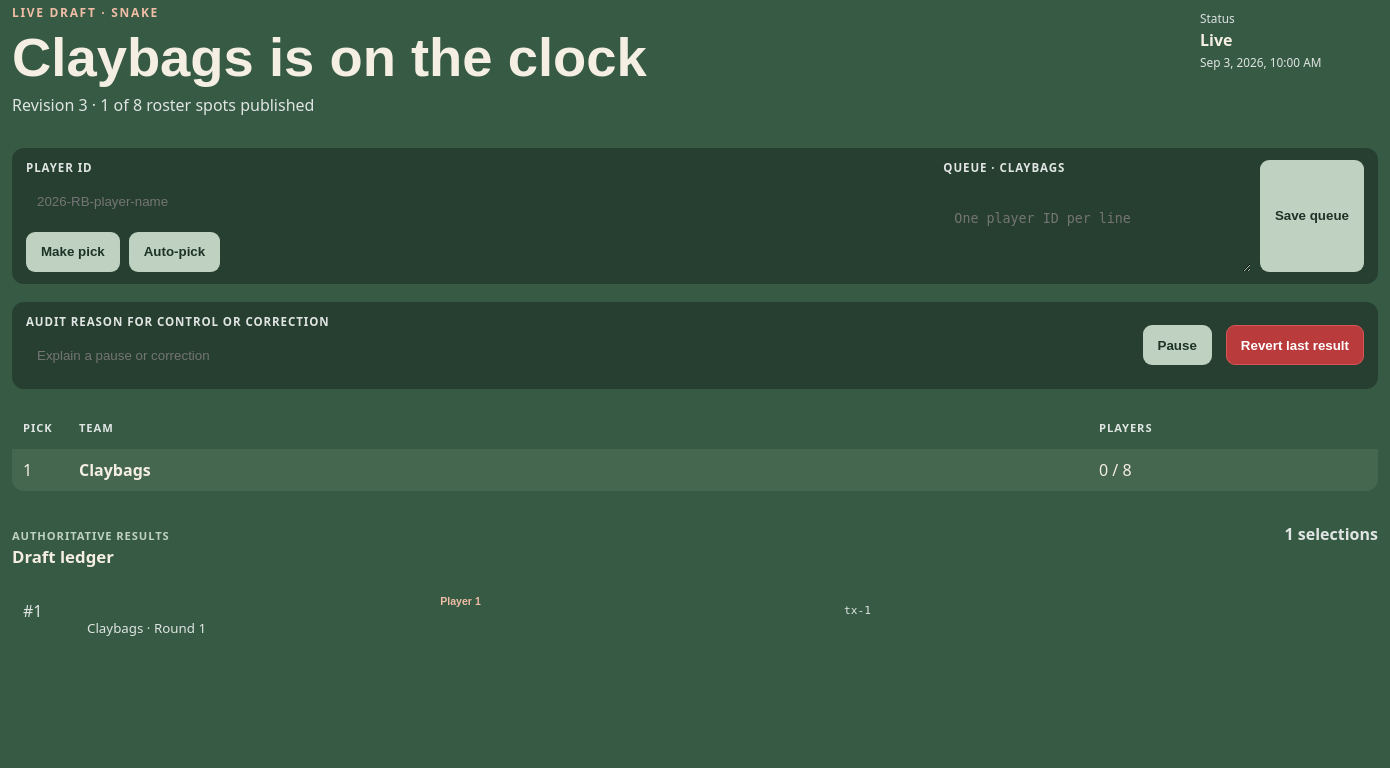
native draft workspace › requires a reason before the commissioner can revert a result
Step 1. Click the button "Revert last result" → [1295, 345], box [1226, 325, 1364, 365]
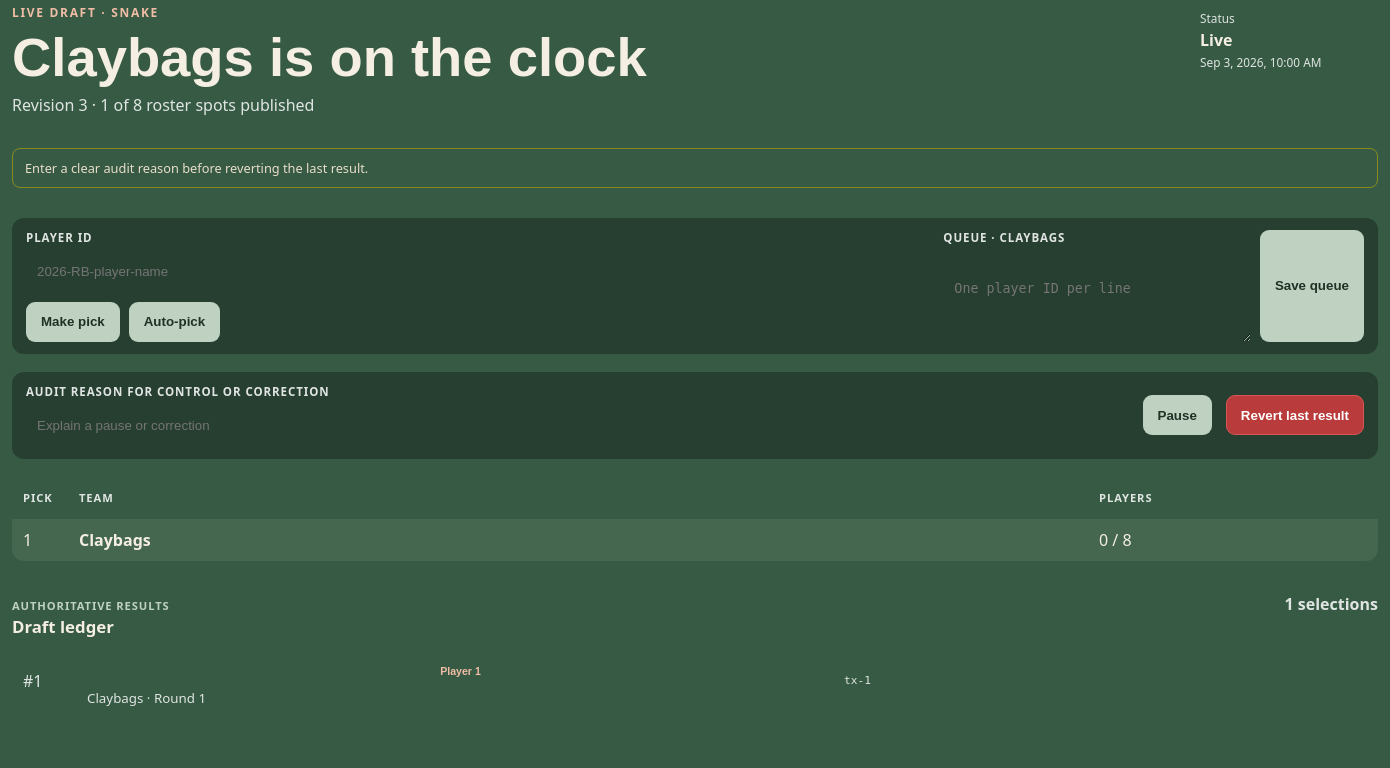
Result: the message shows "Enter a clear audit reason" at [25, 159, 368, 177]
